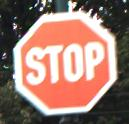Stop sign: (0, 0, 128, 123)
